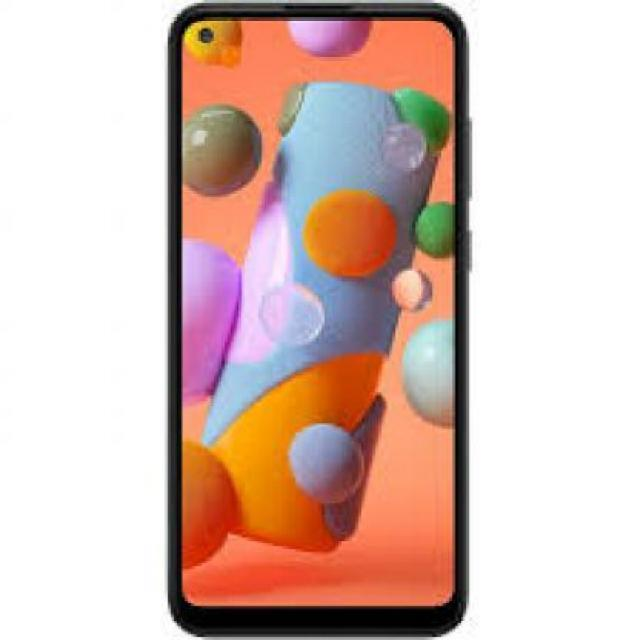phone: (168, 3, 470, 637)
